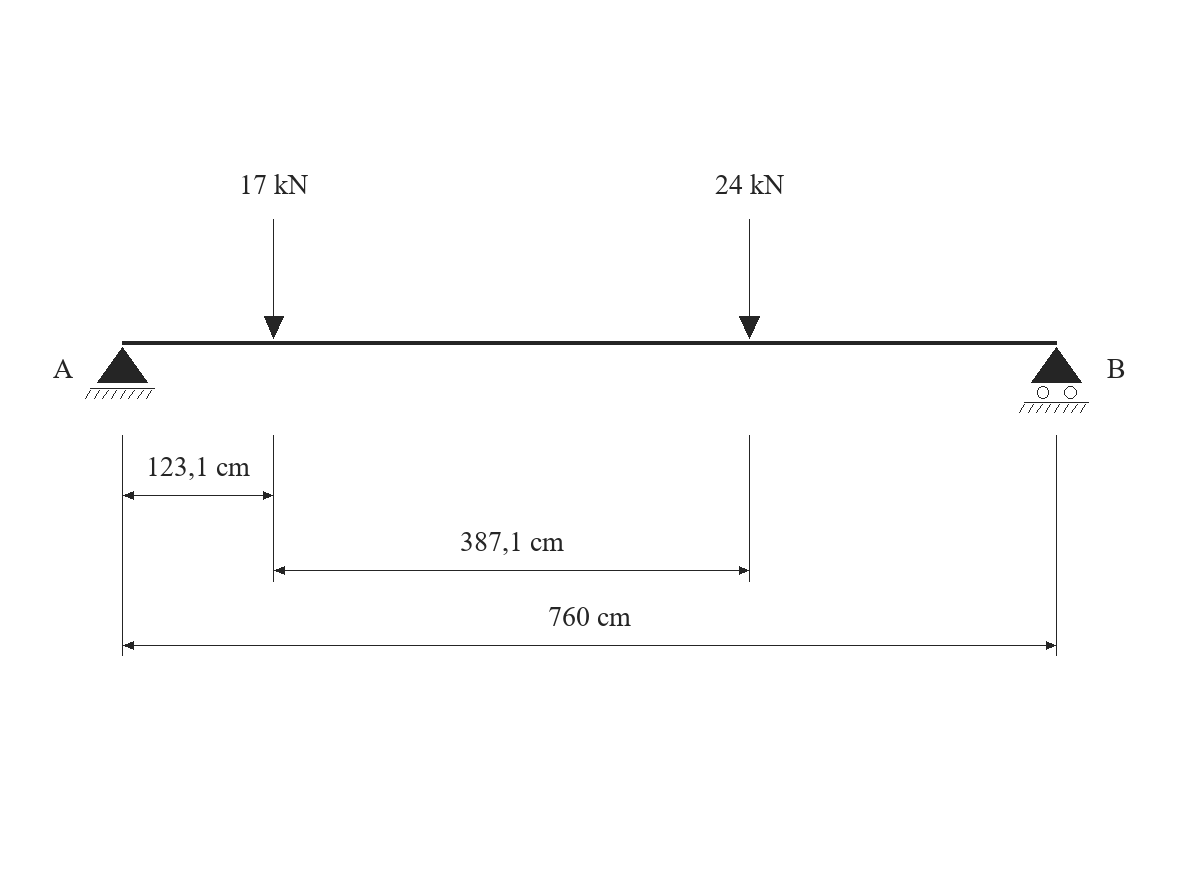pin_support: (85, 347, 155, 399)
point_load: (739, 219, 760, 339), (264, 219, 284, 339)
roller_support: (1019, 347, 1089, 413)
